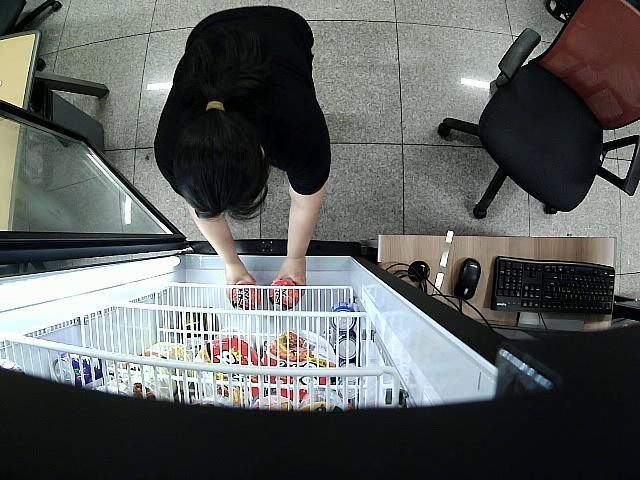02_shinRamen_S: (268, 280, 301, 308), (232, 286, 260, 310)
